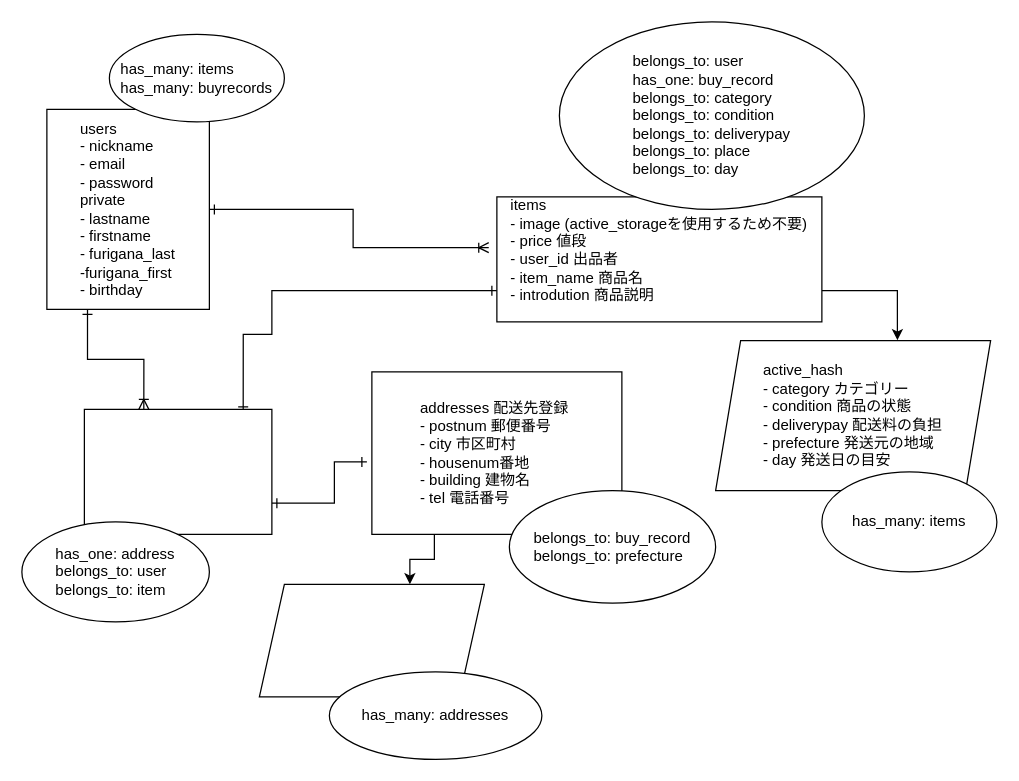
The diagram is 1019 pixels wide and 781 high, and some of its shapes have lost their labels. The centre of each missing label's shape, as x and y in pixels:
active_hash - prefecture 発送元の地域: (x=371, y=640)
buy_records 購入記録 - user_id 購入者 - item_id 何を買ったか: (x=177, y=471)
